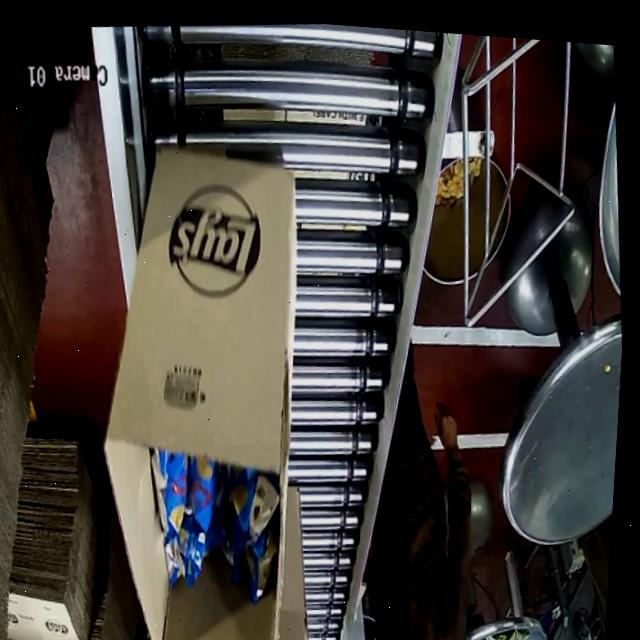PAPRIKA: (130, 436, 282, 622)
